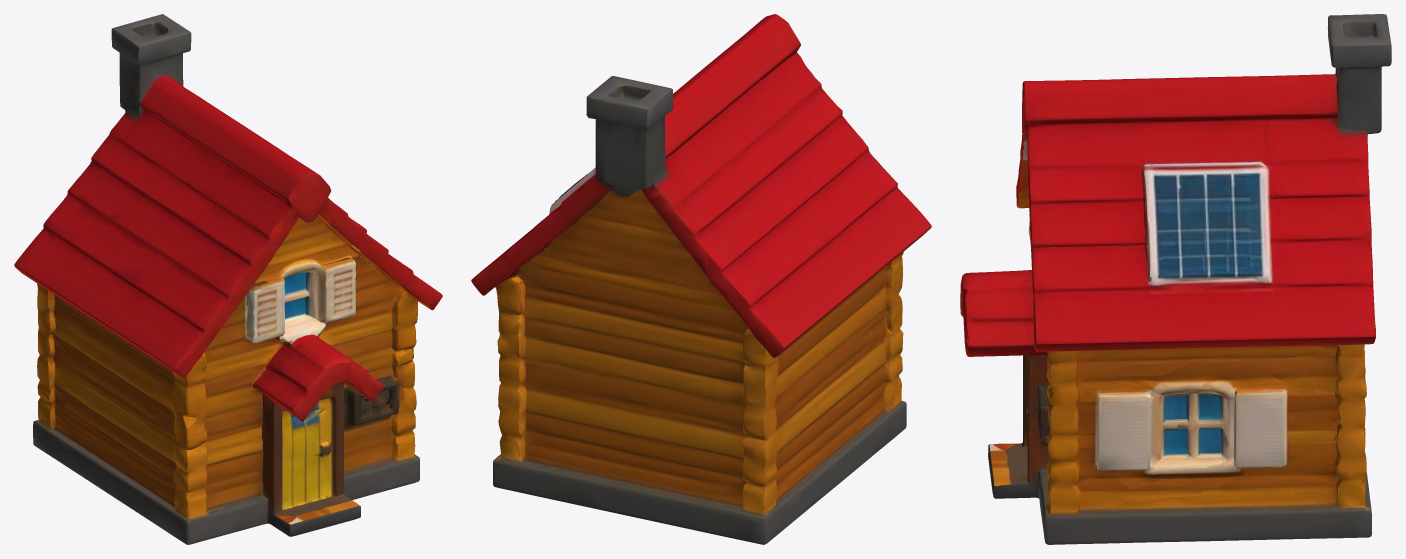
The model's file is cottage_d.glb.
3 views of the same model, side by side, from view 1: azimuth 30°, elevation 25°; view 2: azimuth 150°, elevation 25°; view 3: azimuth 270°, elevation 25° (orthographic). The views are drawn at different scales.
Visible parts, largest first — view 1: cottage_d; view 2: cottage_d; view 3: cottage_d.
Part boxes in pixels (left/top/right/bottom): cottage_d: left=14, top=14, right=442, bottom=544; cottage_d: left=471, top=14, right=931, bottom=544; cottage_d: left=960, top=14, right=1391, bottom=544.
Bounding box in the file's own units: 0.7878 × 1 × 0.8842.
Materials: 1 (1 with a texture image).
